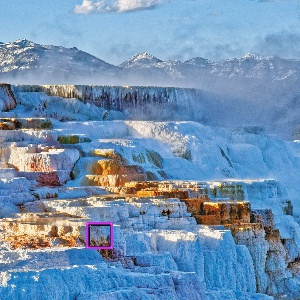square: (85, 220, 114, 250)
